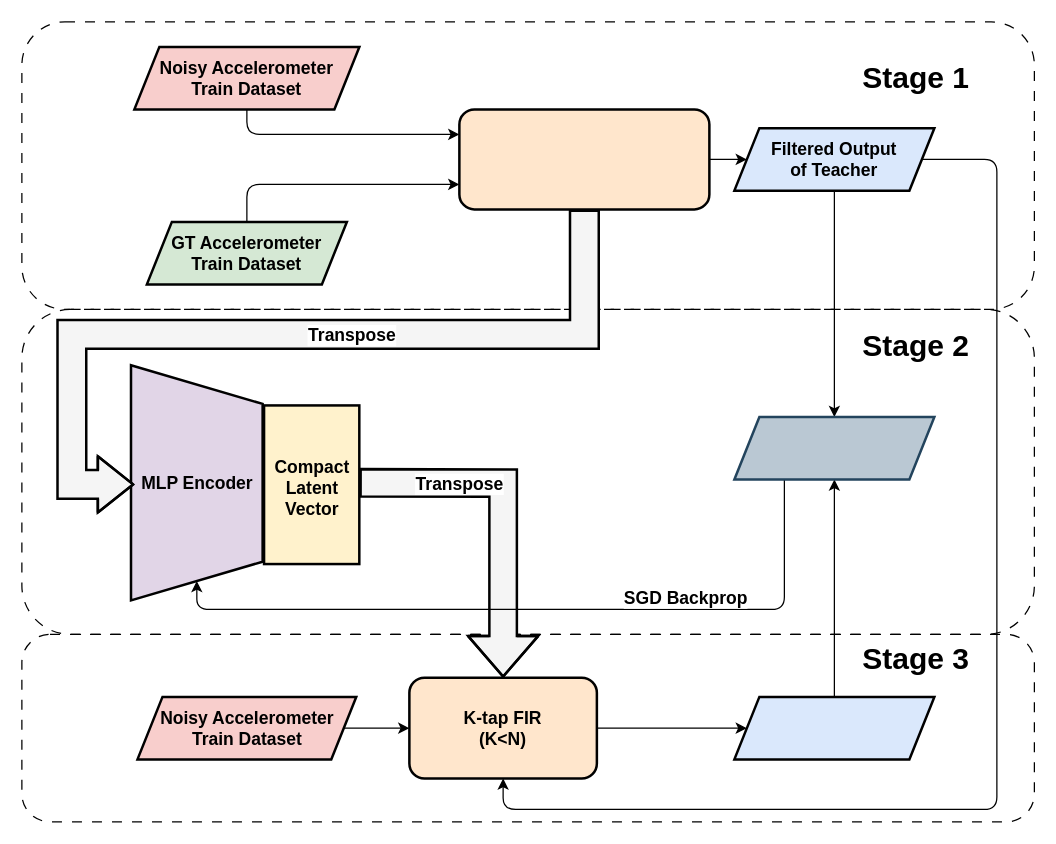
The diagram is 1056 pixels wide and 844 high, and some of its shapes have lost their labels. The centre of each missing label's shape, as x and y in pixels:
"Distillation Loss" belongs at point (833, 447).
"Filtered Output of Student" belongs at point (833, 727).
"N-tap FIR" belongs at point (584, 159).
